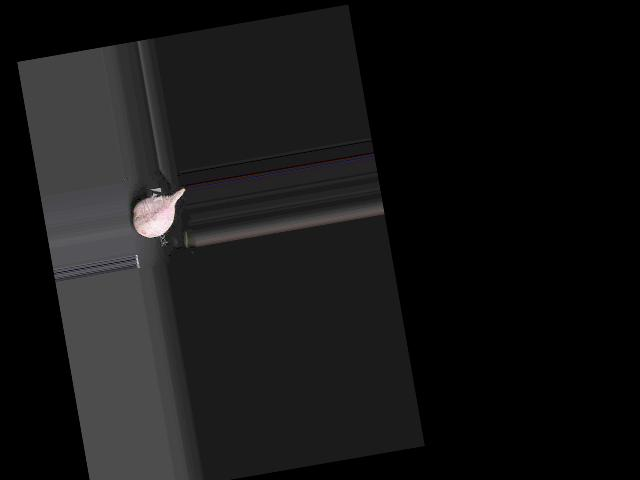beet: (129, 189, 191, 240)
